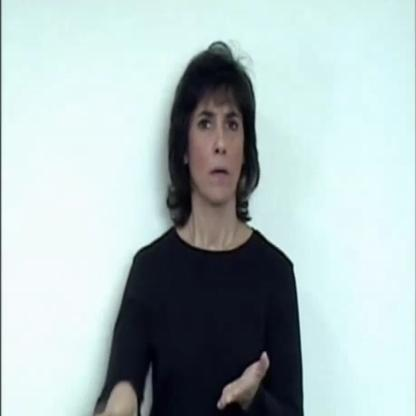Expensive: (106, 271, 280, 416)
